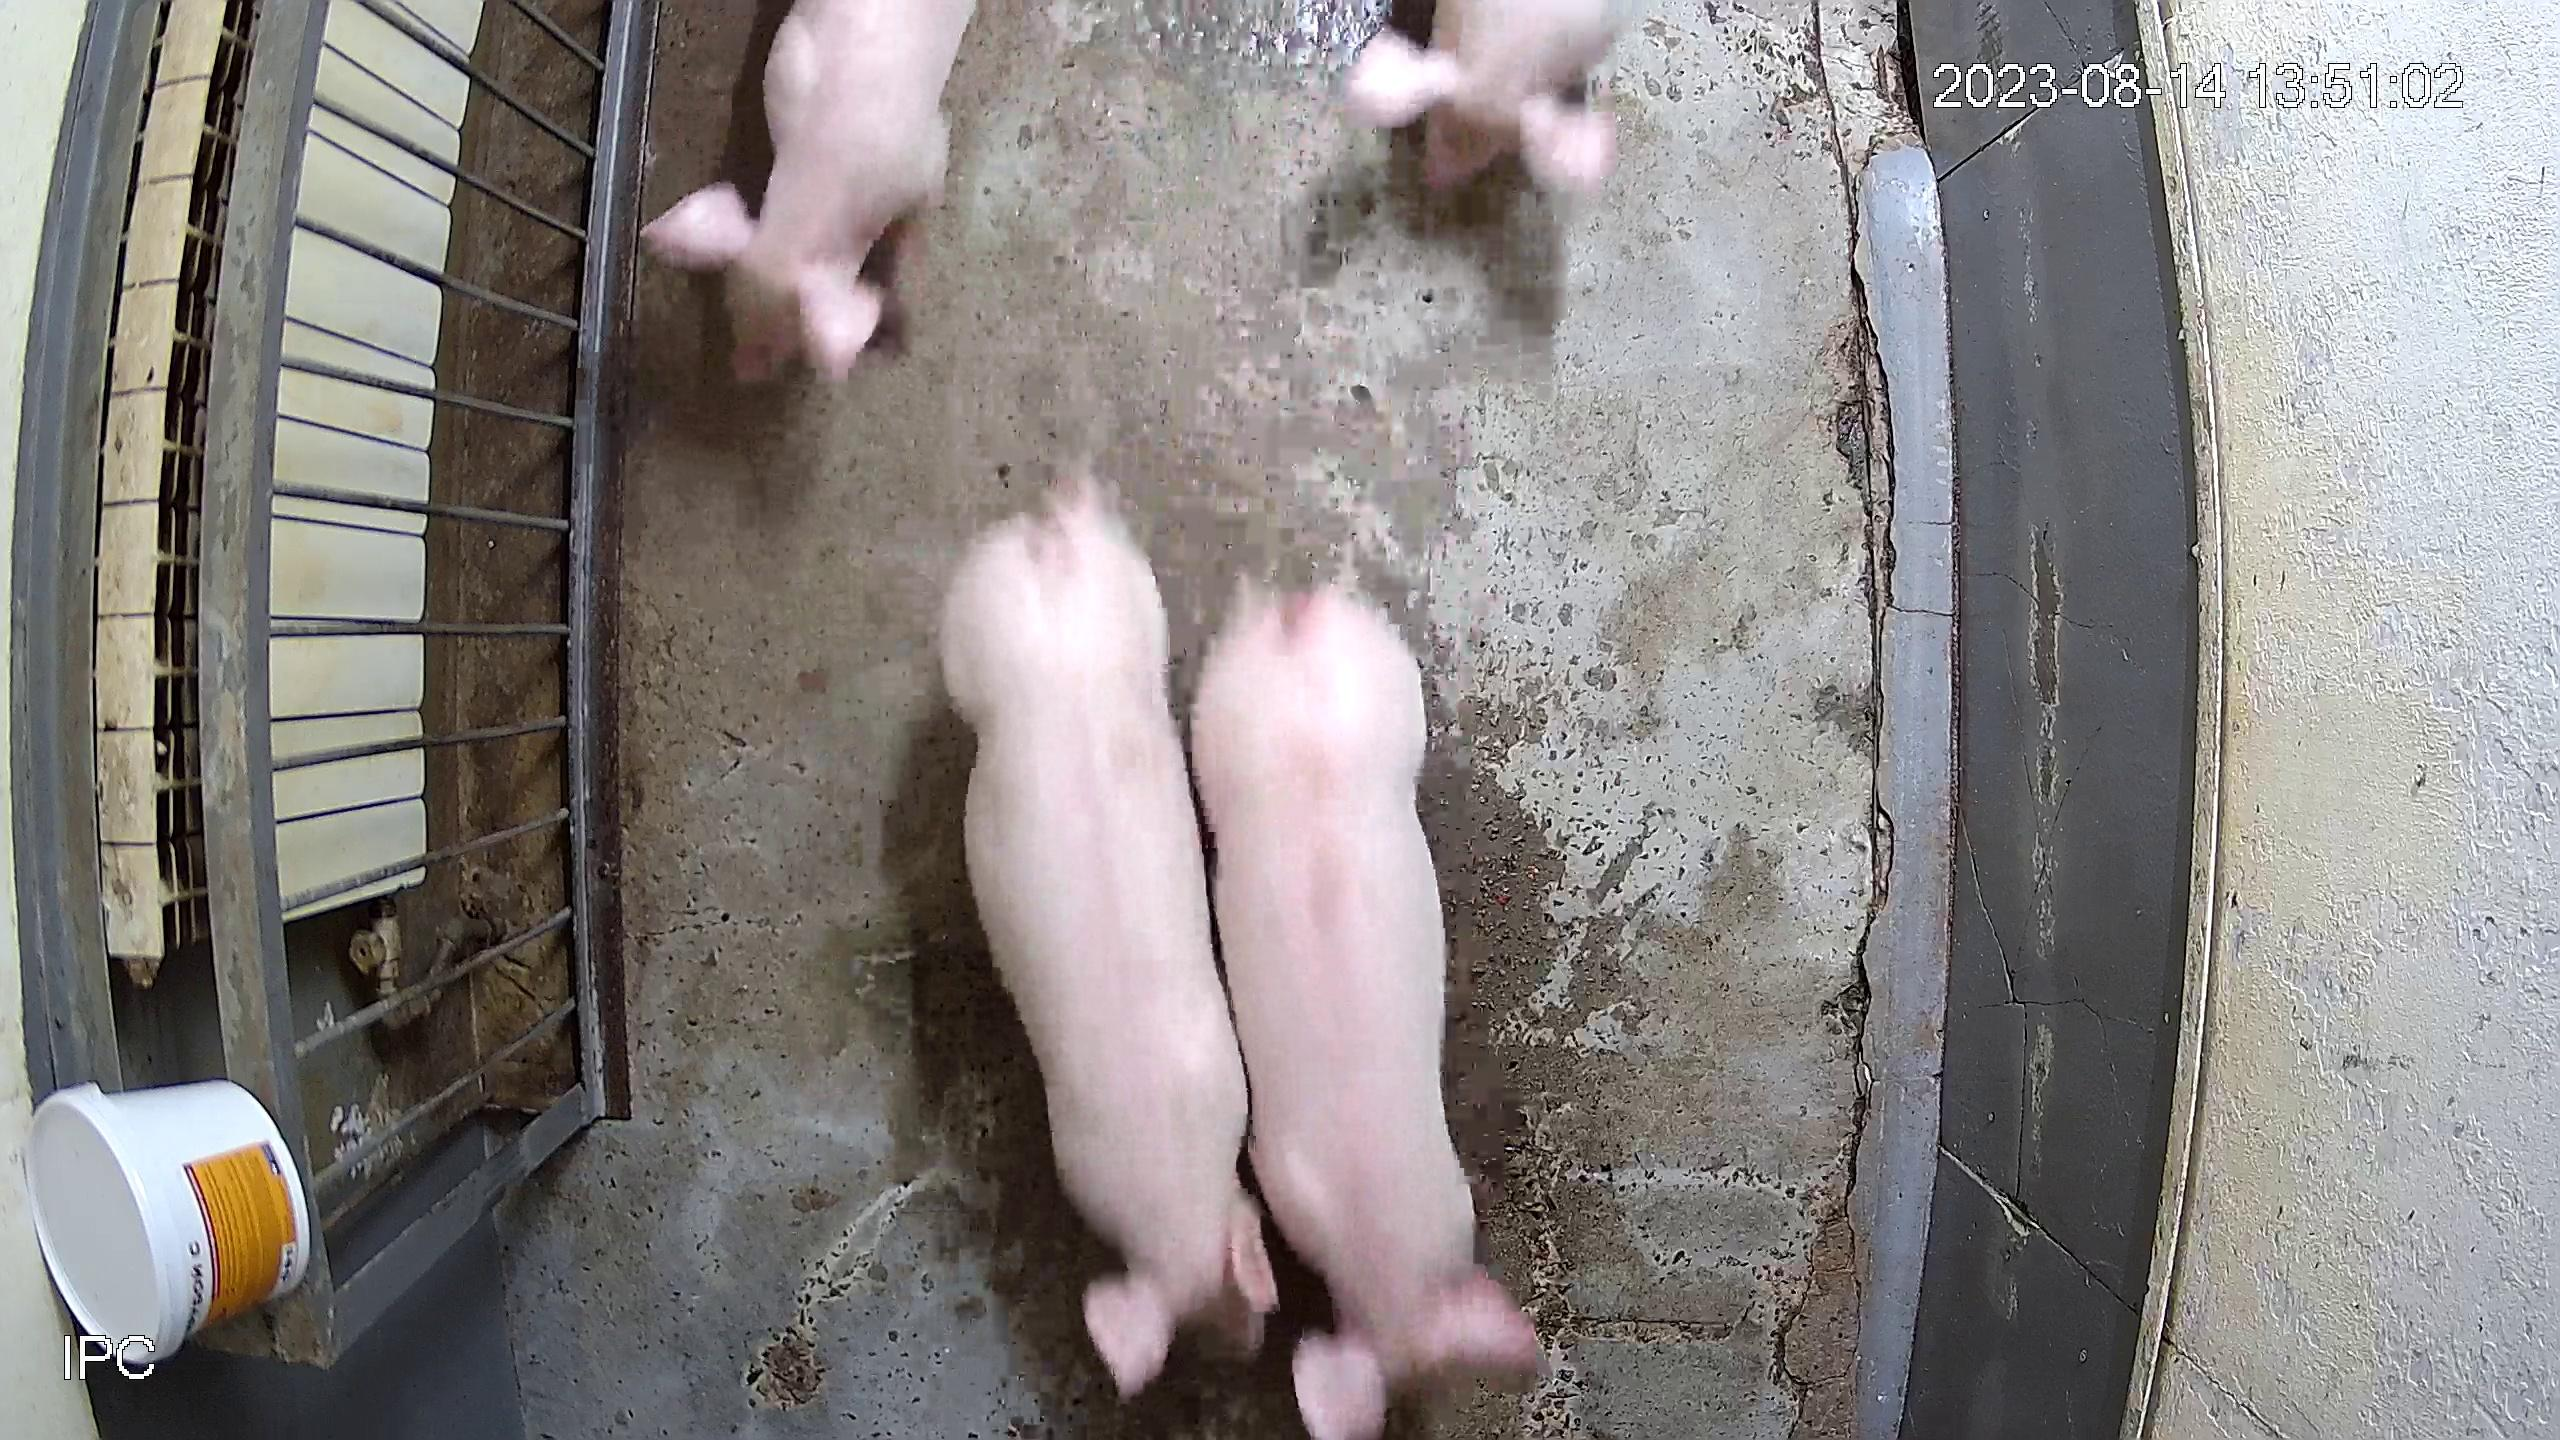Pig: (939, 475, 1276, 1398), (1194, 584, 1540, 1440), (638, 0, 972, 378), (1349, 0, 1625, 186)
